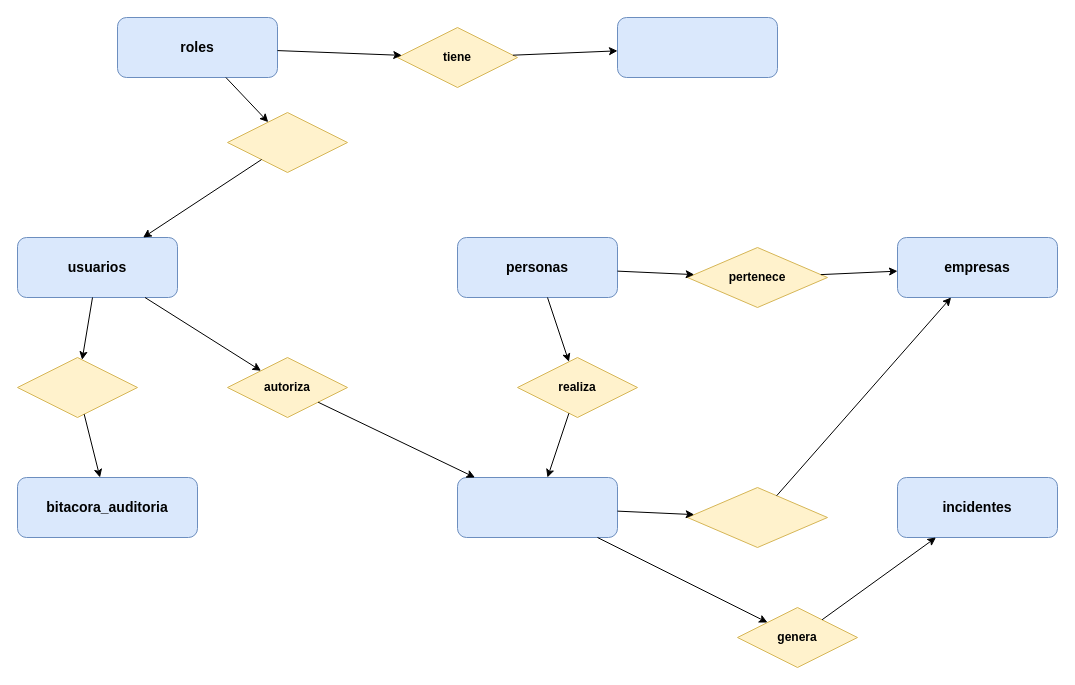
Image size: 1075x685. Some labels were removed from this diagram. Here are the shapes that lost their labels. From the top down, the centre of each, then its label:
At [697,47]: "permisos".
At [287,142]: "asigna".
At [77,387]: "registra".
At [537,507]: "visitas".
At [757,517]: "visita a".
